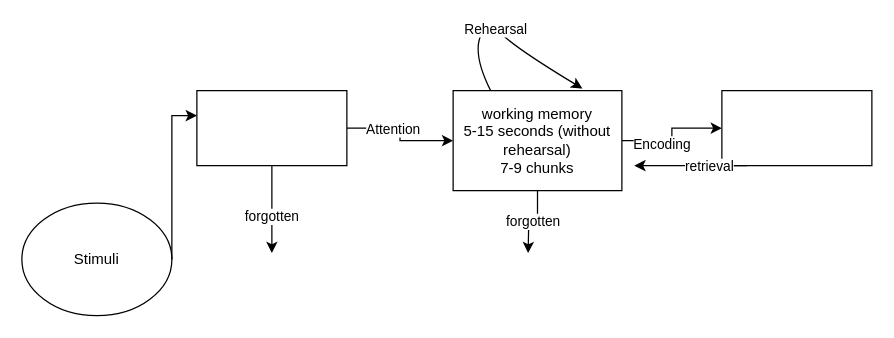
Image size: 894x338. Some labels were removed from this diagram. The shapes that lost their labels are listed below. From the top down, each one's centre as x and y in pixels, then its label:
pixel 271 127: sensory memory 0.5-3 seconds 3-7 units
pixel 796 127: long term memory
